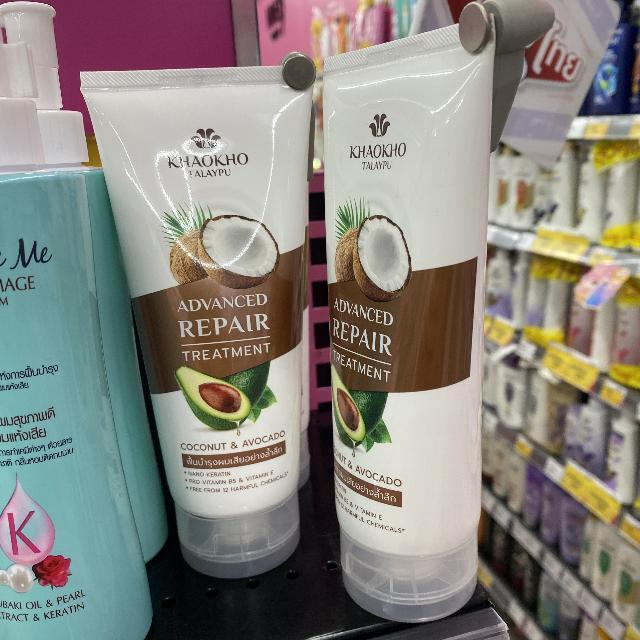Squeeze Tube: (76, 16, 537, 640)
